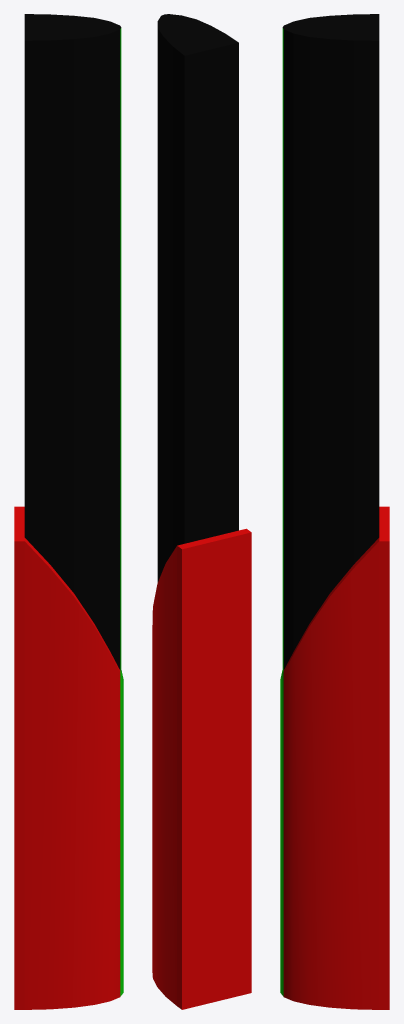
The model's file is SM_spire_large.fbx.
3 views of the same model, side by side, from view 1: azimuth 90°, elevation 25°; view 2: azimuth 210°, elevation 25°; view 3: azimuth 270°, elevation 25° (orthographic).
Parts seen in each view (by area): view 1: SM_spire_large; view 2: SM_spire_large; view 3: SM_spire_large.
Boxes of the visible parts, x1=… form: SM_spire_large: x1=14, y1=14, x2=123, y2=1009; SM_spire_large: x1=152, y1=14, x2=251, y2=1009; SM_spire_large: x1=280, y1=14, x2=389, y2=1009.
Bounding box in the file's own units: 269 × 3510 × 360.
